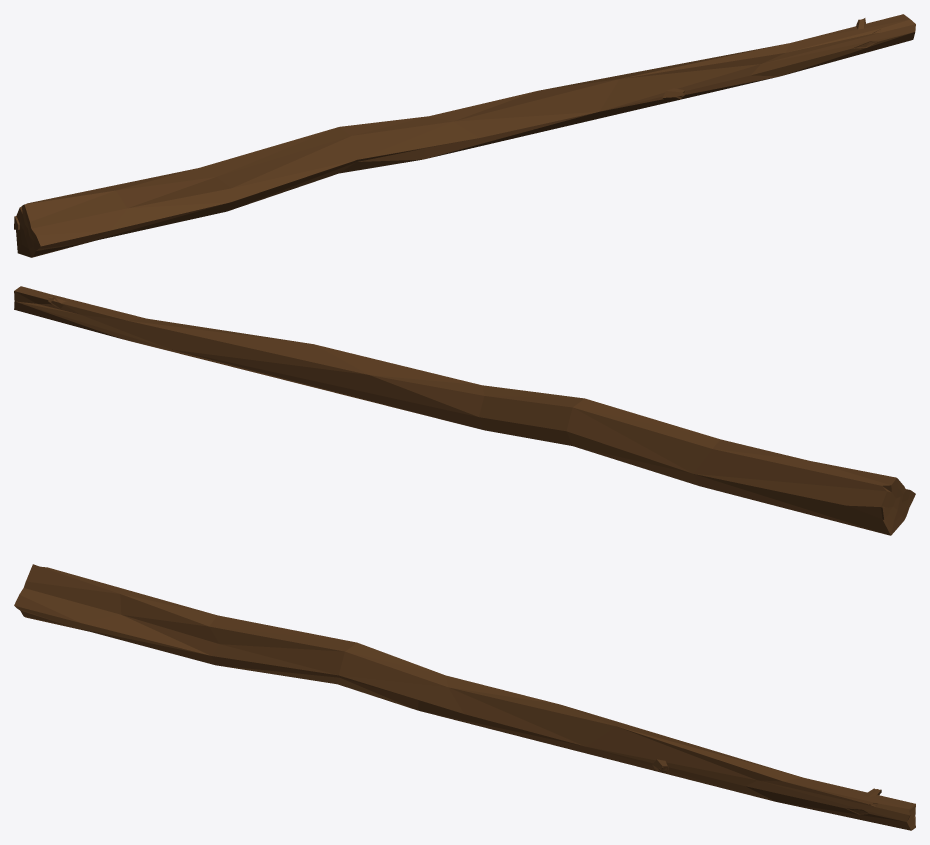
The model's file is SM_Tree_Spruce_Log_A.fbx.
3 views of the same model, one above another, from view 1: azimuth 30°, elevation 25°; view 2: azimuth 150°, elevation 25°; view 3: azimuth 330°, elevation 25° (orthographic).
Parts seen in each view (by area): view 1: tree-spruce-log-a; view 2: tree-spruce-log-a; view 3: tree-spruce-log-a.
Part boxes in pixels (<box>): tree-spruce-log-a: <box>14,14,915,257</box>; tree-spruce-log-a: <box>14,286,915,535</box>; tree-spruce-log-a: <box>14,564,915,830</box>.
Size of the model in its own units: 8.13 by 0.4692 by 0.5096.
